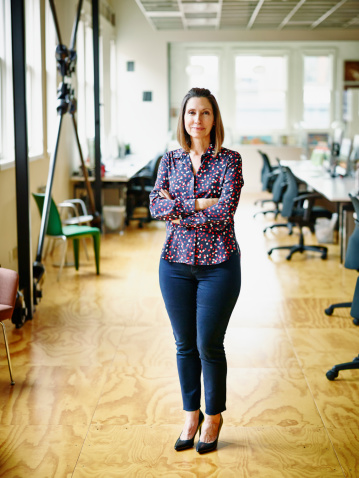em pe: (147, 80, 250, 460)
